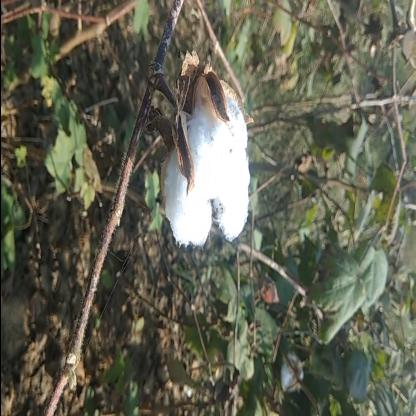cotton_ready: (126, 27, 264, 287)
